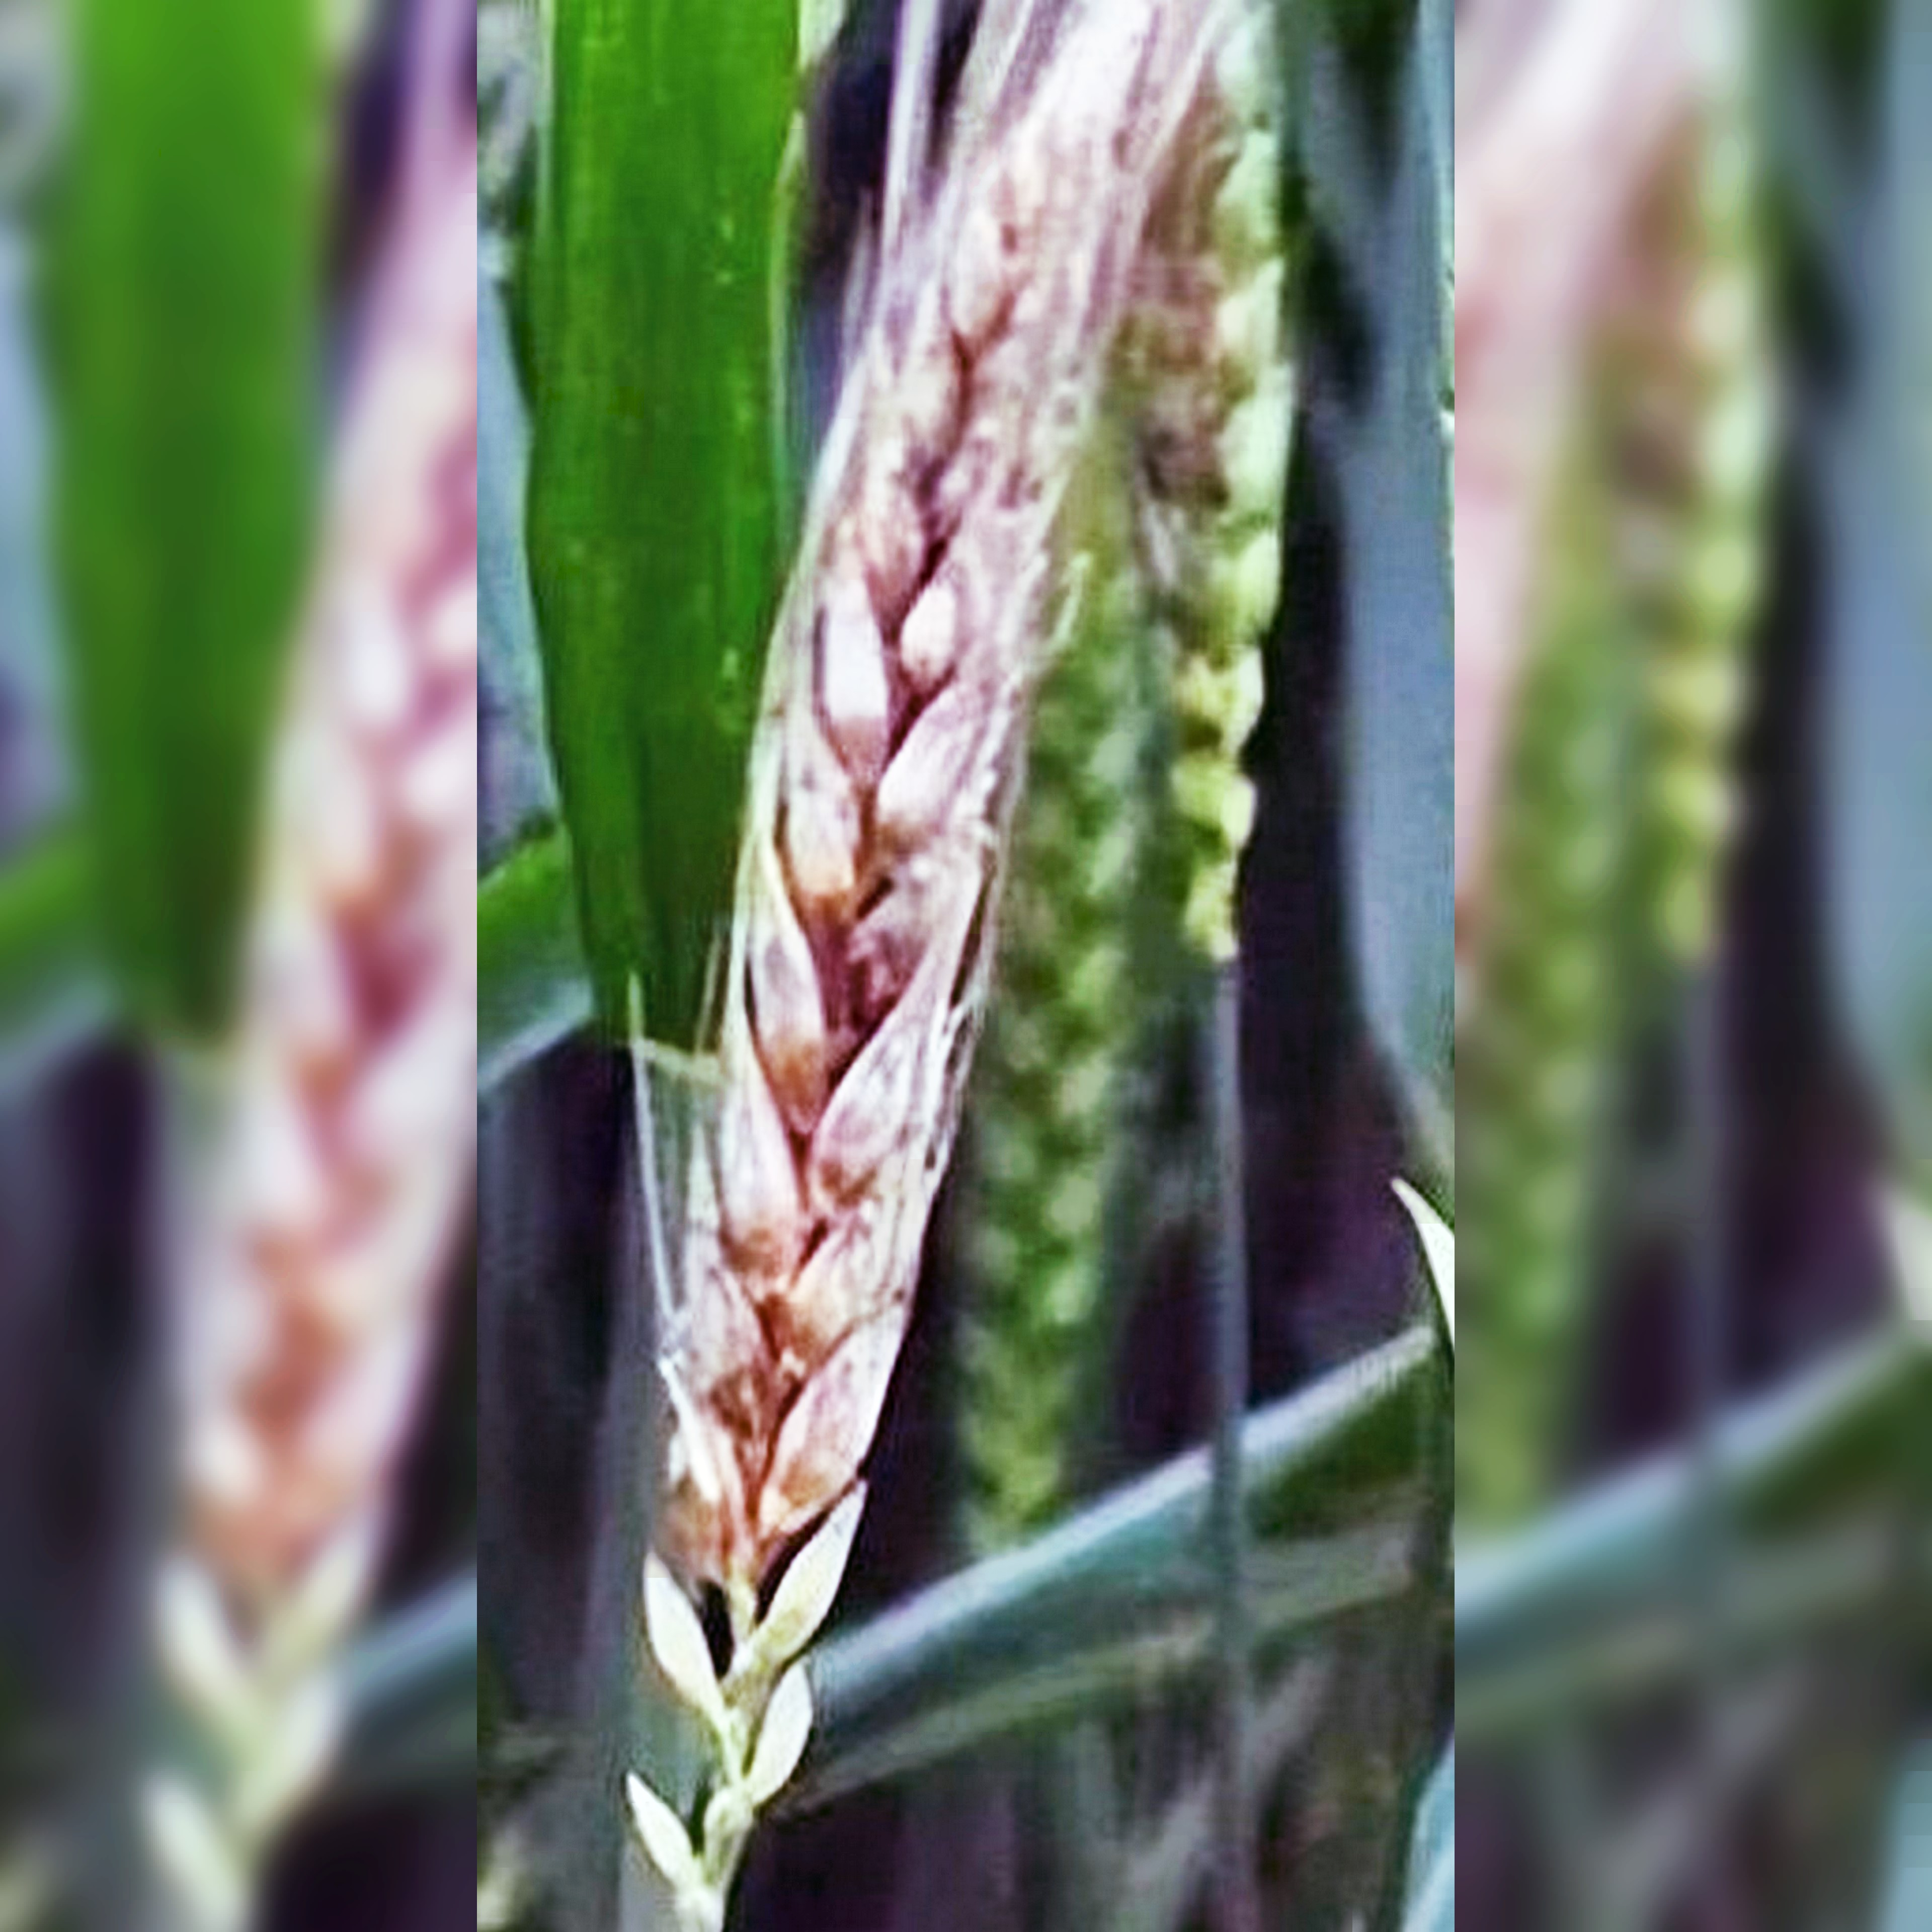Wheat scab: (632, 32, 1217, 1645)
